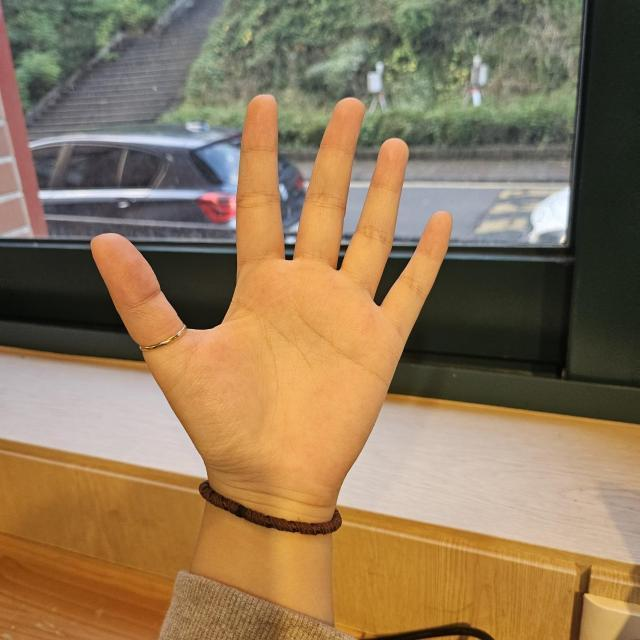hand: (84, 90, 454, 592)
